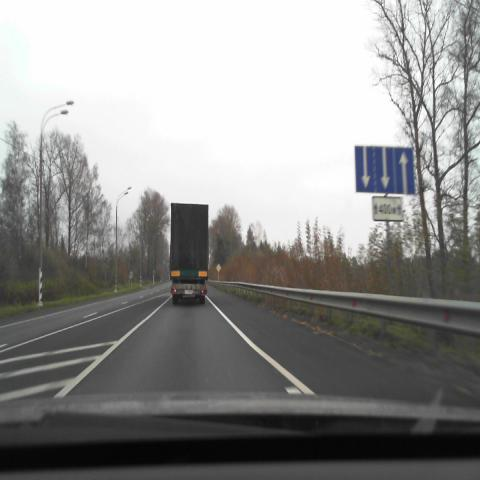5_15_7: (354, 145, 414, 194)
